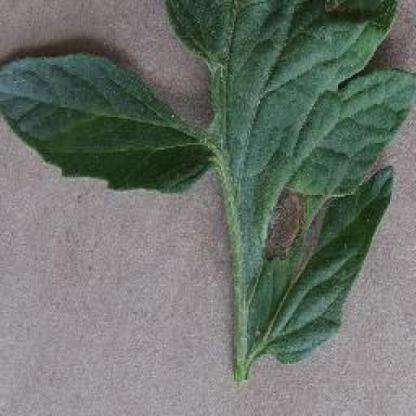Tomato_Blight: (0, 0, 416, 363)
